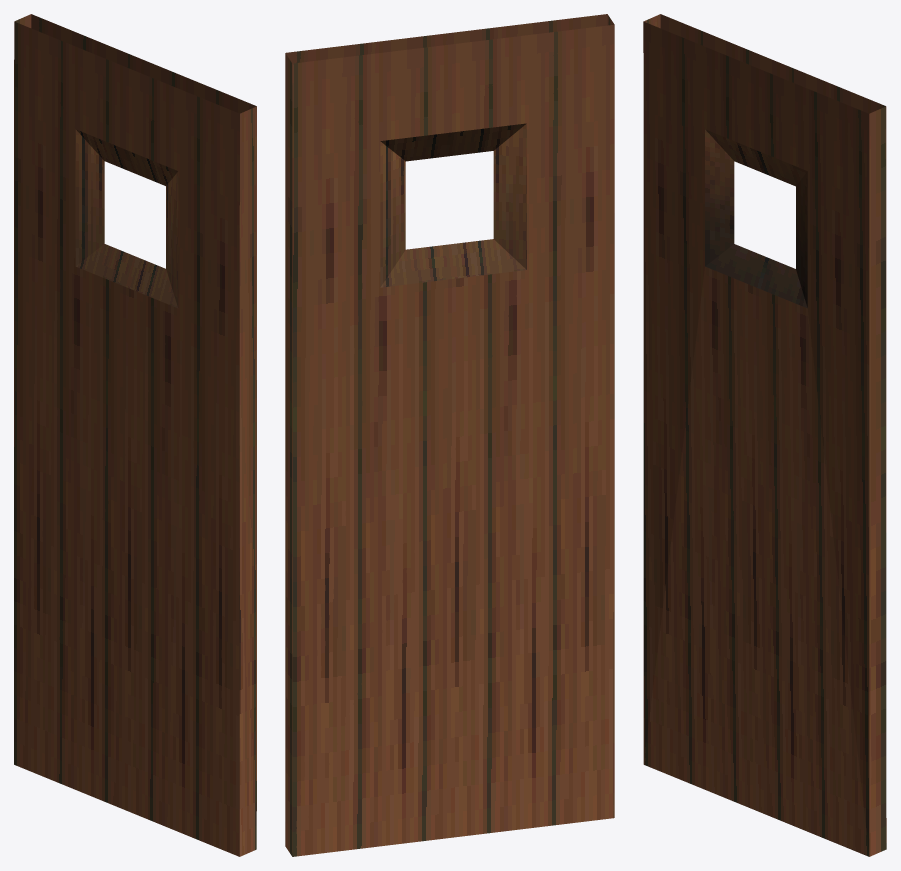
File: primary_068.glb
The picture shows the model from 3 angles, left to right: view 1: azimuth 90°, elevation 25°; view 2: azimuth 150°, elevation 25°; view 3: azimuth 270°, elevation 25°; orthographic projection. The views are drawn at different scales.
Parts seen in each view (by area): view 1: Object; view 2: Object; view 3: Object.
Part boxes in pixels (x1,y1,x2,y2): Object: [14, 14, 256, 856]; Object: [285, 14, 614, 856]; Object: [643, 14, 886, 856].
Bounding box in the file's own units: 0.7026 × 2.44 × 0.7227.
5 materials, 5 textured.
